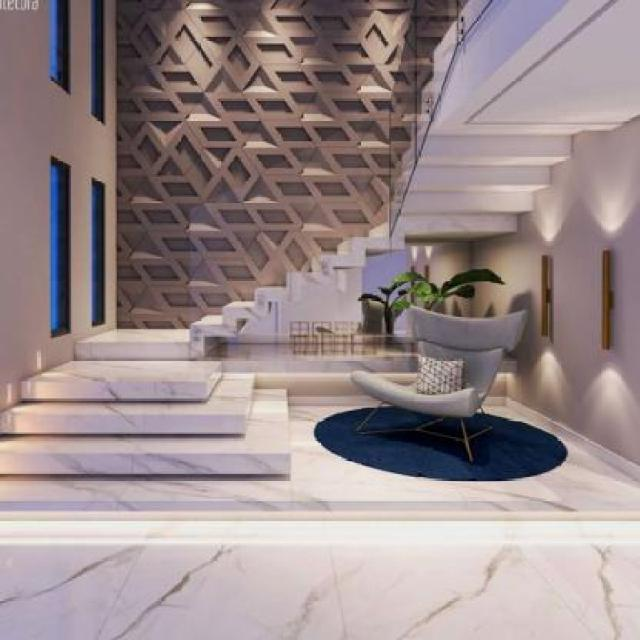stair: (0, 197, 392, 511)
